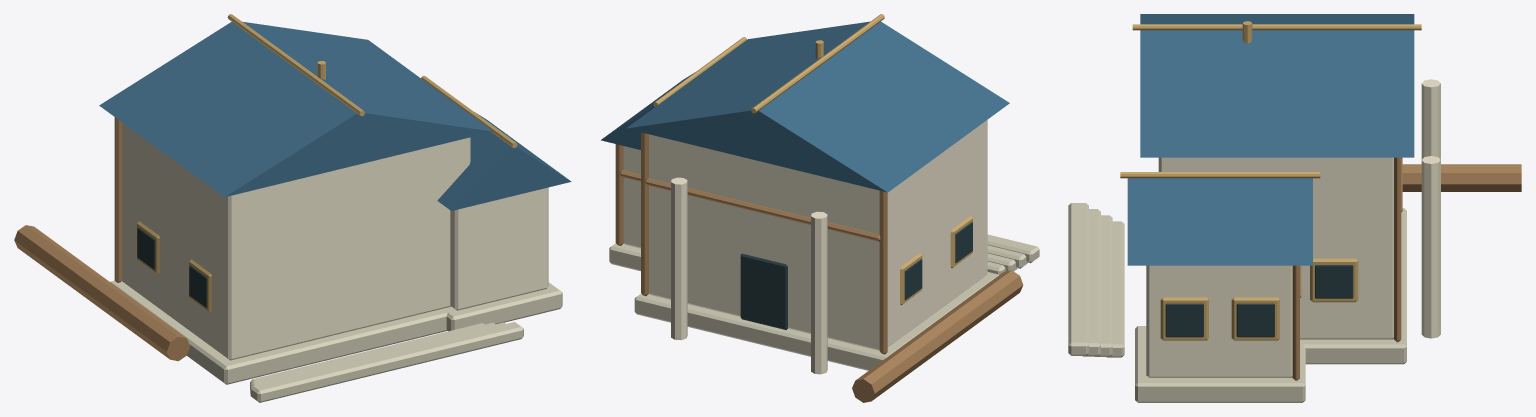
The model's file is level_28.glb.
3 views of the same model, side by side, from view 1: azimuth 30°, elevation 25°; view 2: azimuth 150°, elevation 25°; view 3: azimuth 270°, elevation 25° (orthographic). The views are drawn at different scales.
Parts seen in each view (by area): view 1: timber_yard — level 28; view 2: timber_yard — level 28; view 3: timber_yard — level 28.
Boxes of the visible parts, x1,y1,x2,y2 form: timber_yard — level 28: (14, 14, 571, 402); timber_yard — level 28: (601, 14, 1039, 402); timber_yard — level 28: (1068, 14, 1521, 402).
Size of the model in its own units: 6.43 by 4.16 by 6.12.
